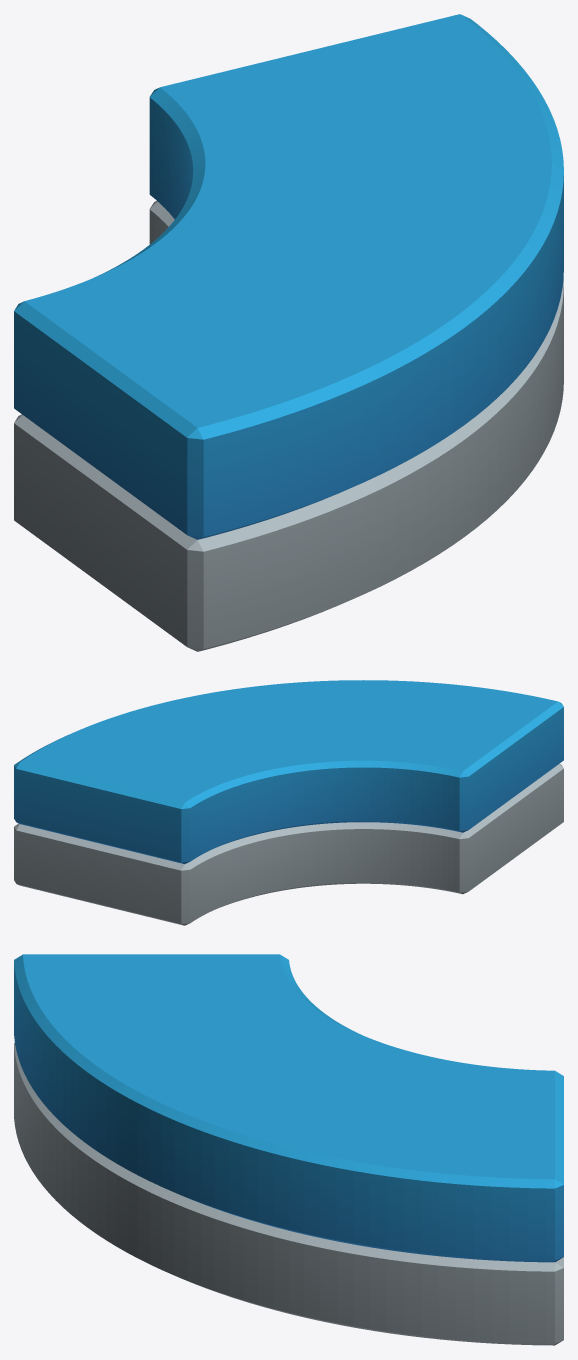
File: kaykit_platform_quarter_curve_3x3x1_blue.glb
3 views of the same model, one above another, from view 1: azimuth 30°, elevation 25°; view 2: azimuth 150°, elevation 25°; view 3: azimuth 270°, elevation 25° (orthographic). The views are drawn at different scales.
Parts seen in each view (by area): view 1: kaykit_platform_quarter_curve_blue_visual; view 2: kaykit_platform_quarter_curve_blue_visual; view 3: kaykit_platform_quarter_curve_blue_visual.
Boxes of the visible parts, x1,y1,x2,y2 form: kaykit_platform_quarter_curve_blue_visual: (14, 14, 563, 651); kaykit_platform_quarter_curve_blue_visual: (14, 680, 563, 925); kaykit_platform_quarter_curve_blue_visual: (14, 954, 563, 1345).
Size of what is drawn, in the model's own units: 3 by 1 by 3.
Materials: 1 (1 with a texture image).
